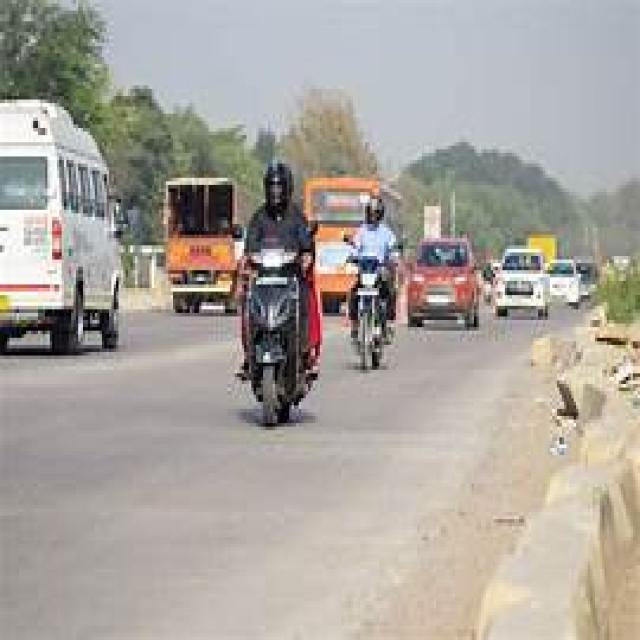Bus: (304, 176, 380, 312)
Car: (409, 240, 477, 327), (495, 249, 547, 316)
Traveller: (0, 101, 119, 352)
Truck: (166, 184, 234, 310)
Two Wheeler: (237, 225, 314, 425), (344, 234, 396, 368)
